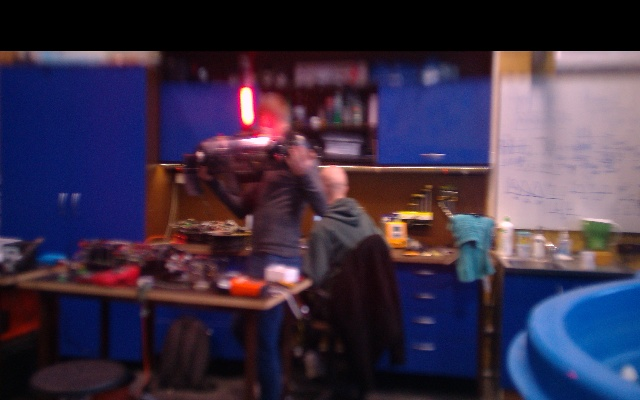red: (238, 86, 253, 127)
